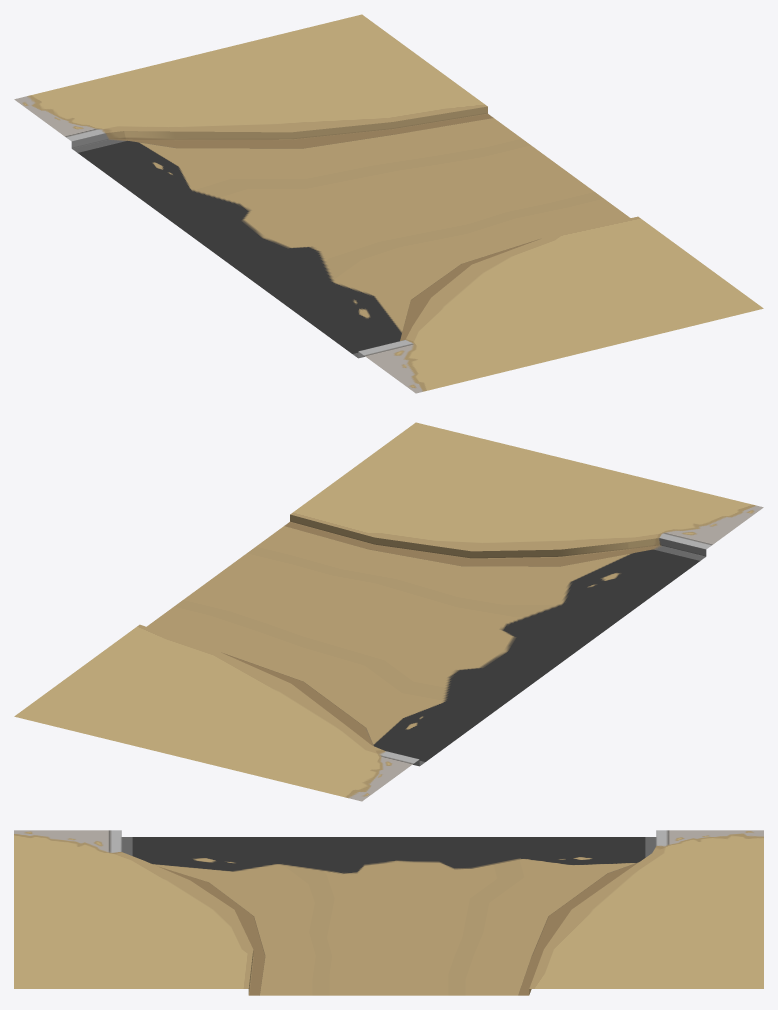
The model's file is SM_Env_Road_Dirt_Town_Transition_01.gltf.
3 renders of one model, top to bottom at view 1: azimuth 30°, elevation 25°; view 2: azimuth 150°, elevation 25°; view 3: azimuth 270°, elevation 25°, orthographic. The views are drawn at different scales.
Parts seen in each view (by area): view 1: SM_Env_Road_Dirt_Town_Transition_01; view 2: SM_Env_Road_Dirt_Town_Transition_01; view 3: SM_Env_Road_Dirt_Town_Transition_01.
Boxes of the visible parts, x1,y1,x2,y2 form: SM_Env_Road_Dirt_Town_Transition_01: (14,14,763,393); SM_Env_Road_Dirt_Town_Transition_01: (14,422,763,801); SM_Env_Road_Dirt_Town_Transition_01: (14,830,763,995).
Bounding box in the file's own units: 10 × 0.1948 × 20.
Materials: 1 (1 with a texture image).
